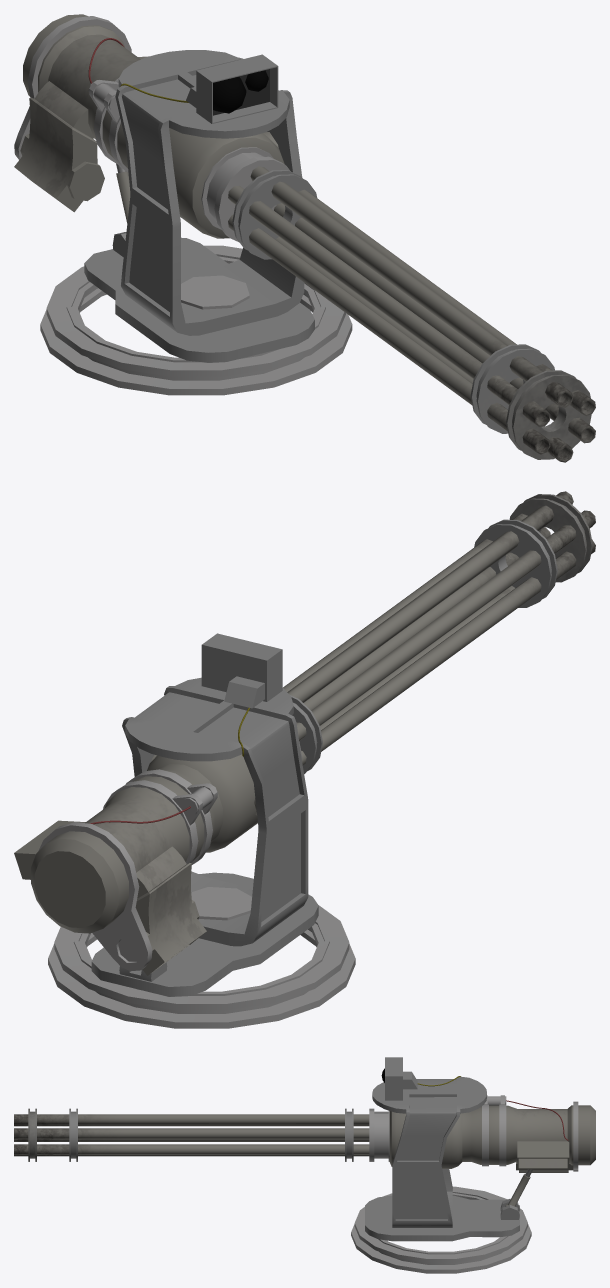
File: turret.obj
3 renders of one model, top to bottom at view 1: azimuth 30°, elevation 25°; view 2: azimuth 150°, elevation 25°; view 3: azimuth 270°, elevation 25°, orthographic. The views are drawn at different scales.
Visible parts, largest first — view 1: Barrels_Textures_0, Main_frame_Textures_0, Main_body_Textures_0, Rotary_assembly_Textures_0, Base_frame_Textures_0, Belt_reciever_Textures_0, Stationary_assembly_Textures_0, Assembly_piece1_Textures_0, Case_Textures_0, Assembly_piece4_Textures_0, Assembly_piece3_Textures_0, Assembly_piece2_Textures_0 (+4 smaller); view 2: Barrels_Textures_0, Main_frame_Textures_0, Main_body_Textures_0, Rotary_assembly_Textures_0, Base_frame_Textures_0, Stationary_assembly_Textures_0, Belt_reciever_Textures_0, Case_Textures_0, Bracket1_Textures_0, Assembly_piece2_Textures_0, Bracket2_Textures_0, Assembly_piece1_Textures_0 (+3 smaller); view 3: Barrels_Textures_0, Main_frame_Textures_0, Main_body_Textures_0, Base_frame_Textures_0, Rotary_assembly_Textures_0, Stationary_assembly_Textures_0, Ejector_Textures_0, Assembly_piece4_Textures_0, Case_Textures_0, Bracket2_Textures_0, Assembly_piece1_Textures_0, Assembly_piece3_Textures_0 (+3 smaller).
Boxes of the visible parts, left/top/right/bottom form: Barrels_Textures_0: left=228, top=166, right=595, bottom=462; Main_frame_Textures_0: left=115, top=50, right=304, bottom=335; Main_body_Textures_0: left=23, top=14, right=284, bottom=238; Rotary_assembly_Textures_0: left=46, top=245, right=345, bottom=376; Base_frame_Textures_0: left=84, top=237, right=314, bottom=362; Belt_reciever_Textures_0: left=14, top=81, right=104, bottom=212; Stationary_assembly_Textures_0: left=40, top=287, right=352, bottom=395; Assembly_piece1_Textures_0: left=506, top=370, right=591, bottom=459; Case_Textures_0: left=186, top=54, right=278, bottom=123; Assembly_piece4_Textures_0: left=201, top=147, right=290, bottom=242; Assembly_piece3_Textures_0: left=232, top=170, right=317, bottom=259; Assembly_piece2_Textures_0: left=470, top=344, right=554, bottom=433; Barrels_Textures_0: left=283, top=491, right=595, bottom=765; Main_frame_Textures_0: left=122, top=677, right=308, bottom=946; Main_body_Textures_0: left=31, top=754, right=257, bottom=933; Rotary_assembly_Textures_0: left=54, top=905, right=349, bottom=1010; Base_frame_Textures_0: left=91, top=872, right=318, bottom=996; Stationary_assembly_Textures_0: left=48, top=929, right=355, bottom=1028; Belt_reciever_Textures_0: left=135, top=846, right=206, bottom=975; Case_Textures_0: left=201, top=633, right=282, bottom=708; Bracket1_Textures_0: left=38, top=822, right=152, bottom=971; Assembly_piece2_Textures_0: left=474, top=519, right=557, bottom=607; Bracket2_Textures_0: left=103, top=769, right=217, bottom=864; Assembly_piece1_Textures_0: left=509, top=494, right=592, bottom=582; Barrels_Textures_0: left=14, top=1114, right=369, bottom=1156; Main_frame_Textures_0: left=372, top=1076, right=486, bottom=1227; Main_body_Textures_0: left=389, top=1105, right=595, bottom=1168; Base_frame_Textures_0: left=365, top=1195, right=519, bottom=1241; Rotary_assembly_Textures_0: left=354, top=1186, right=527, bottom=1262; Stationary_assembly_Textures_0: left=351, top=1224, right=531, bottom=1273; Ejector_Textures_0: left=517, top=1141, right=569, bottom=1169; Assembly_piece4_Textures_0: left=369, top=1108, right=389, bottom=1161; Case_Textures_0: left=385, top=1057, right=417, bottom=1100; Bracket2_Textures_0: left=482, top=1095, right=506, bottom=1166; Assembly_piece1_Textures_0: left=28, top=1108, right=36, bottom=1161; Assembly_piece3_Textures_0: left=345, top=1108, right=353, bottom=1161.
Size of the model in its own units: 0.9155 by 0.9611 by 3.
